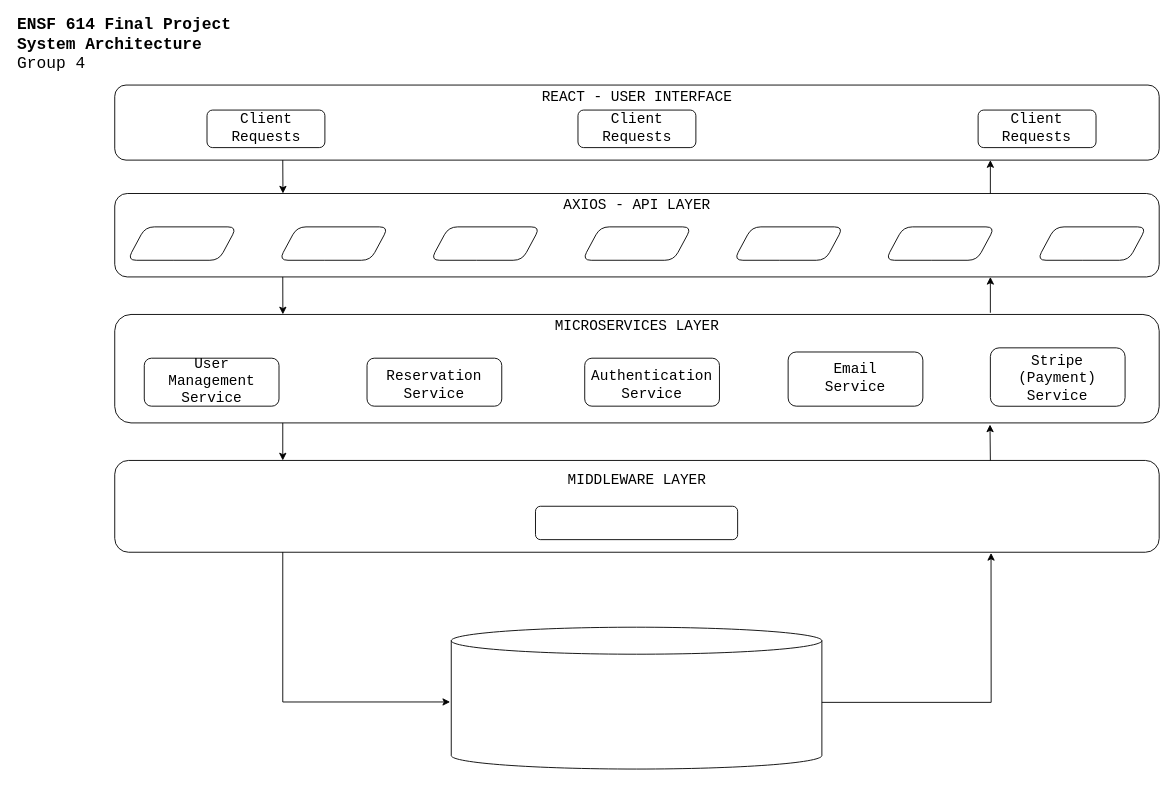
This 1175x785 diagram has some shape labels left out. Each missing label, with the centre of its shape:
Django: (x=636, y=522)
MySQL Database: (x=636, y=697)
